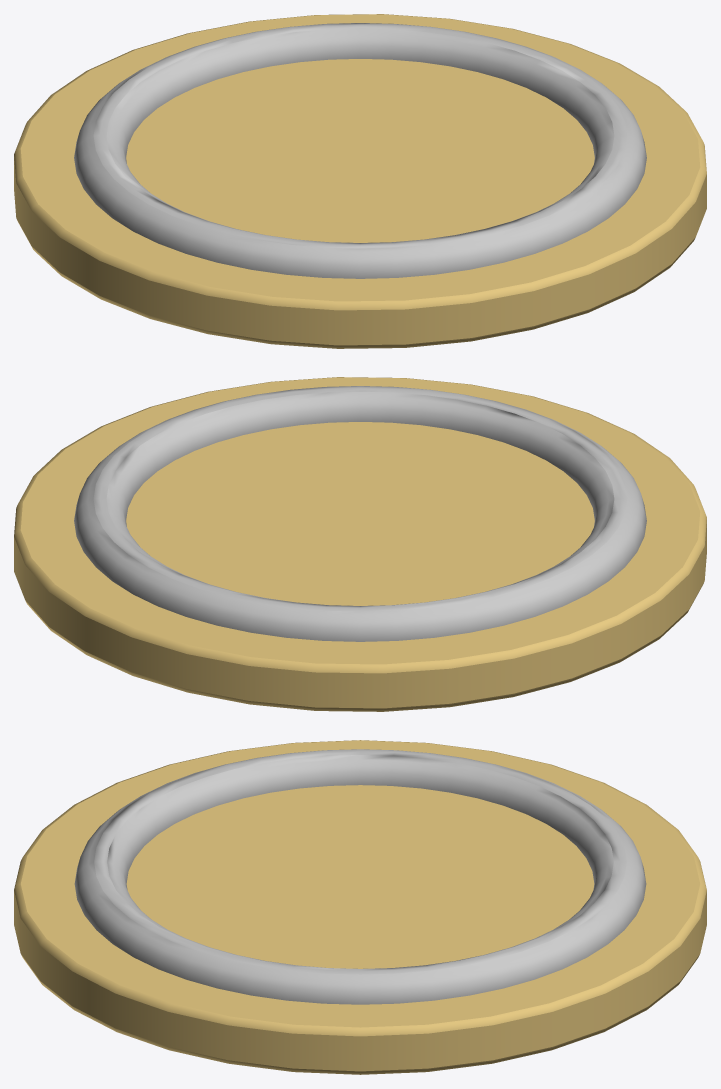
File: SM_LDR_DOCTRINE_SEAL.fbx
The picture shows the model from 3 angles, top to bottom: view 1: azimuth 30°, elevation 25°; view 2: azimuth 150°, elevation 25°; view 3: azimuth 270°, elevation 25°; orthographic projection.
Parts seen in each view (by area): view 1: SM_LDR_DOCTRINE_SEAL; view 2: SM_LDR_DOCTRINE_SEAL; view 3: SM_LDR_DOCTRINE_SEAL.
Part boxes in pixels (bbox=[...]): SM_LDR_DOCTRINE_SEAL: bbox=[14, 14, 706, 348]; SM_LDR_DOCTRINE_SEAL: bbox=[14, 377, 706, 711]; SM_LDR_DOCTRINE_SEAL: bbox=[14, 740, 706, 1074].
Size of what is drawn, in the model's own units: 0.08 by 0.00888 by 0.08.
